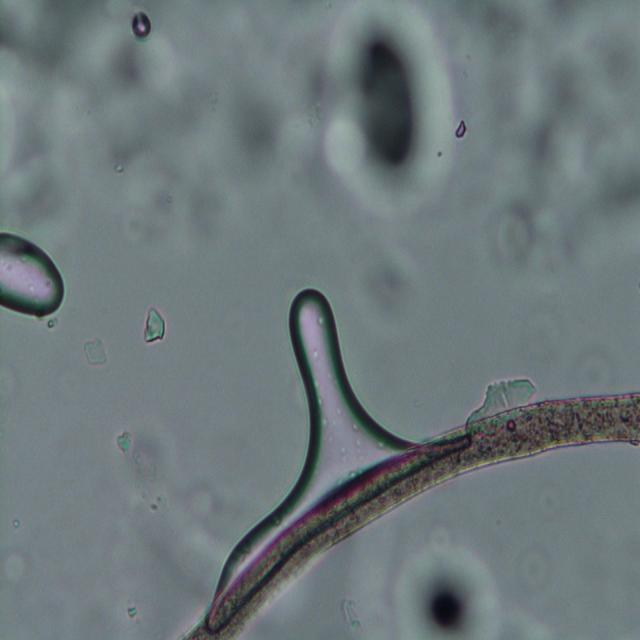Air bubble: (254, 275, 394, 526), (0, 230, 64, 318)
Background material: (0, 0, 352, 285), (468, 5, 640, 289), (326, 3, 454, 215), (111, 419, 249, 582), (396, 533, 496, 638), (344, 218, 424, 330), (513, 540, 559, 592), (0, 551, 32, 590), (140, 308, 168, 345), (83, 337, 109, 372), (127, 8, 153, 39), (115, 424, 139, 456), (123, 594, 142, 622), (453, 118, 469, 144)
Microfibre: (180, 392, 640, 638)
